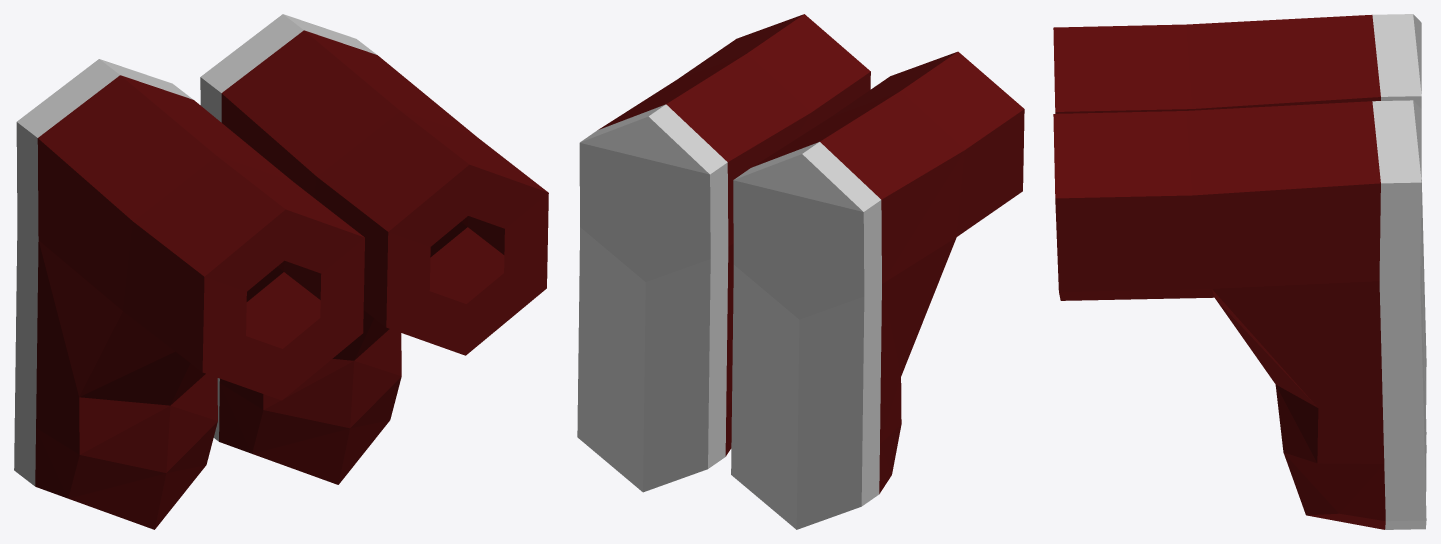
The model's file is boots.obj.
The picture shows the model from 3 angles, left to right: view 1: azimuth 30°, elevation 25°; view 2: azimuth 150°, elevation 25°; view 3: azimuth 270°, elevation 25°; orthographic projection. The views are drawn at different scales.
Visible parts, largest first — view 1: shoes2; view 2: shoes2; view 3: shoes2.
Part boxes in pixels (bbox=[...]): shoes2: bbox=[14, 14, 548, 529]; shoes2: bbox=[577, 14, 1024, 529]; shoes2: bbox=[1053, 14, 1426, 529].
Size of the model in its own units: 1.56 by 1.93 by 1.52.
